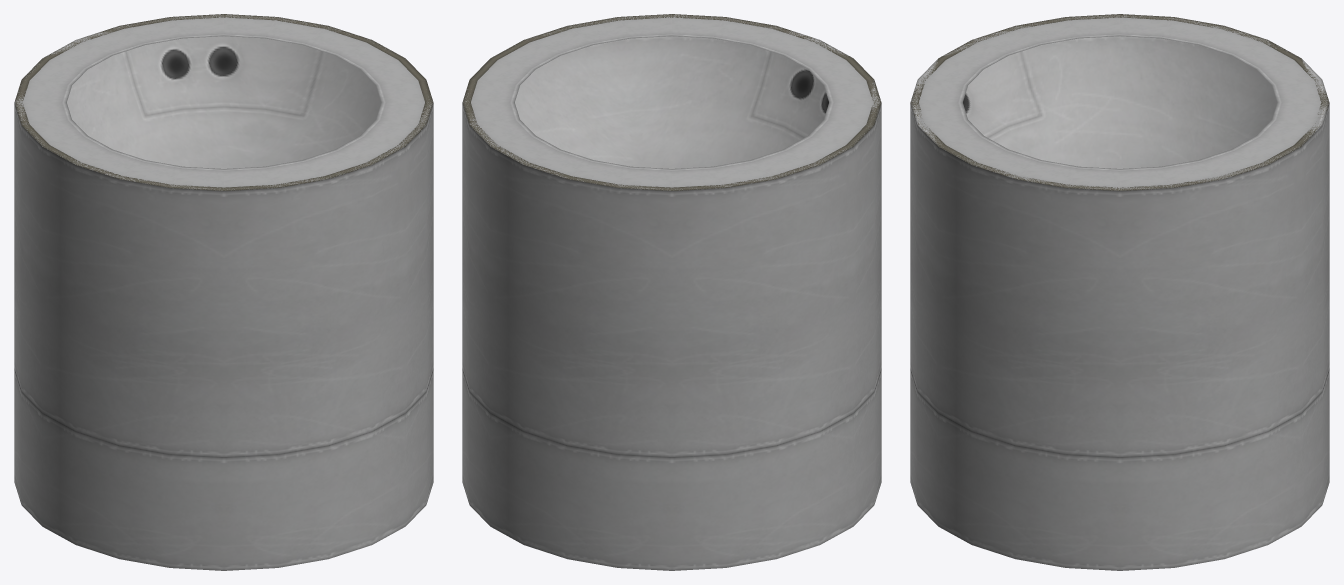
Rendered from alnair_us_engine_s1_1.obj.
3 views of the same model, side by side, from view 1: azimuth 30°, elevation 25°; view 2: azimuth 150°, elevation 25°; view 3: azimuth 270°, elevation 25° (orthographic).
Parts seen in each view (by area): view 1: fairing1, mesh1; view 2: fairing1, mesh1; view 3: fairing1, mesh1.
Boxes of the visible parts, bbox=[...] form: fairing1: bbox=[14, 14, 433, 570]; mesh1: bbox=[14, 14, 433, 190]; fairing1: bbox=[462, 14, 881, 570]; mesh1: bbox=[462, 14, 880, 190]; fairing1: bbox=[910, 14, 1329, 570]; mesh1: bbox=[911, 14, 1328, 190].
Size of the model in its own units: 1.25 by 1.25 by 1.25.
Materials: 2 (2 with a texture image).
